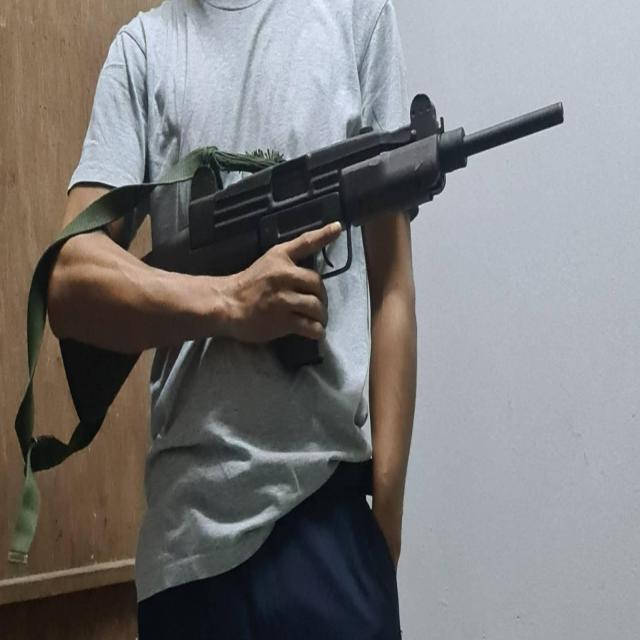gun: (59, 108, 561, 430)
